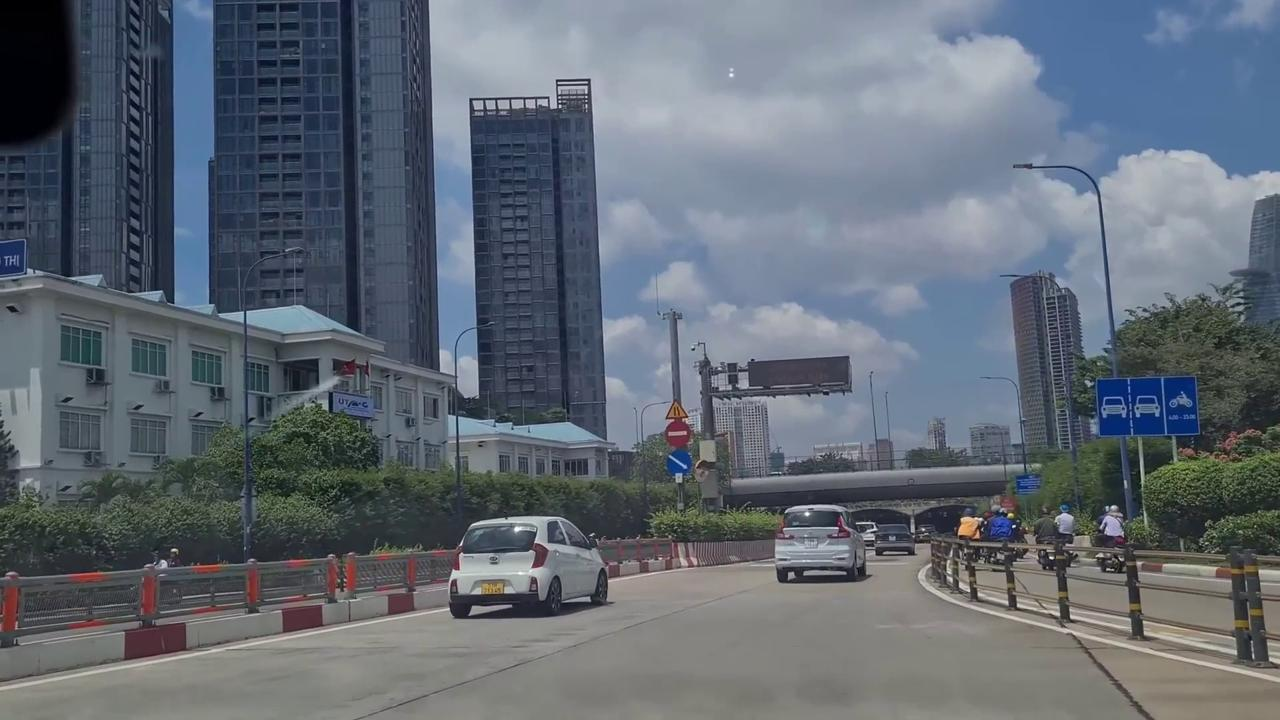Cấm đi ngược chiều: (664, 420, 691, 447)
Hướng phải đi vòng sang phải: (665, 448, 692, 477)
Làn đường cho từng xe: (1094, 374, 1204, 438)
Đuờng hẹp: (664, 399, 690, 419)
